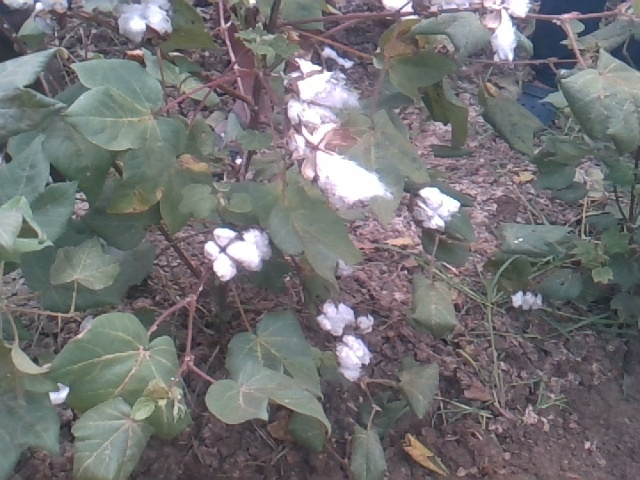cotton: (291, 126, 397, 204), (201, 225, 259, 281), (286, 53, 349, 102), (109, 3, 180, 44), (482, 8, 523, 78), (280, 77, 343, 119), (412, 185, 468, 230), (334, 333, 377, 383), (315, 297, 355, 338), (239, 222, 277, 263), (515, 287, 548, 314), (355, 314, 383, 333)
